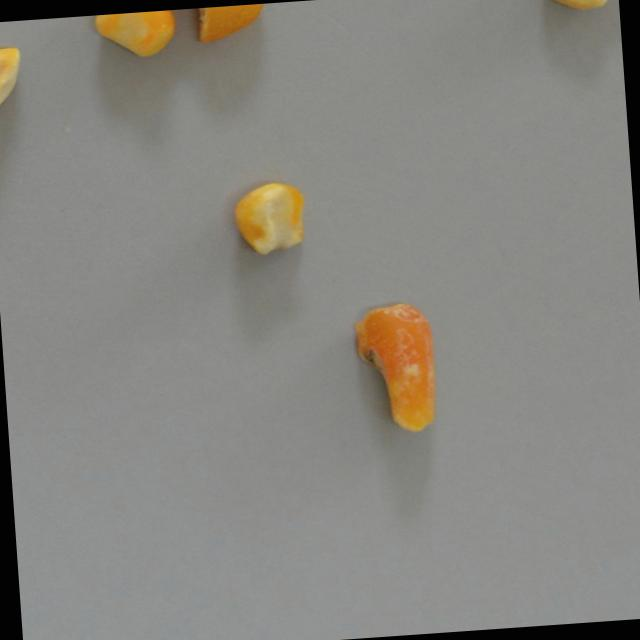dañado: (337, 294, 455, 456), (218, 153, 334, 273), (85, 8, 198, 86), (159, 3, 270, 48), (0, 34, 27, 149), (539, 0, 620, 29)
